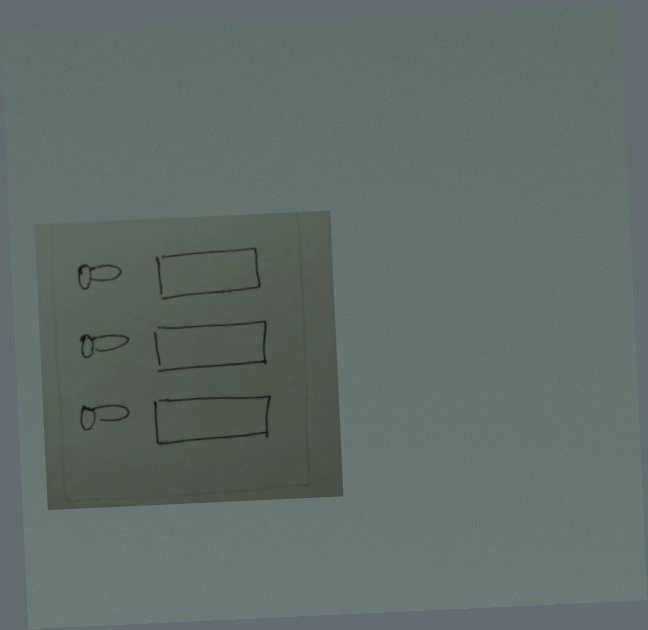switch: (74, 326, 134, 366), (71, 254, 126, 295), (74, 399, 133, 435)
text_input: (145, 387, 280, 450), (145, 313, 273, 378), (149, 244, 266, 305)
